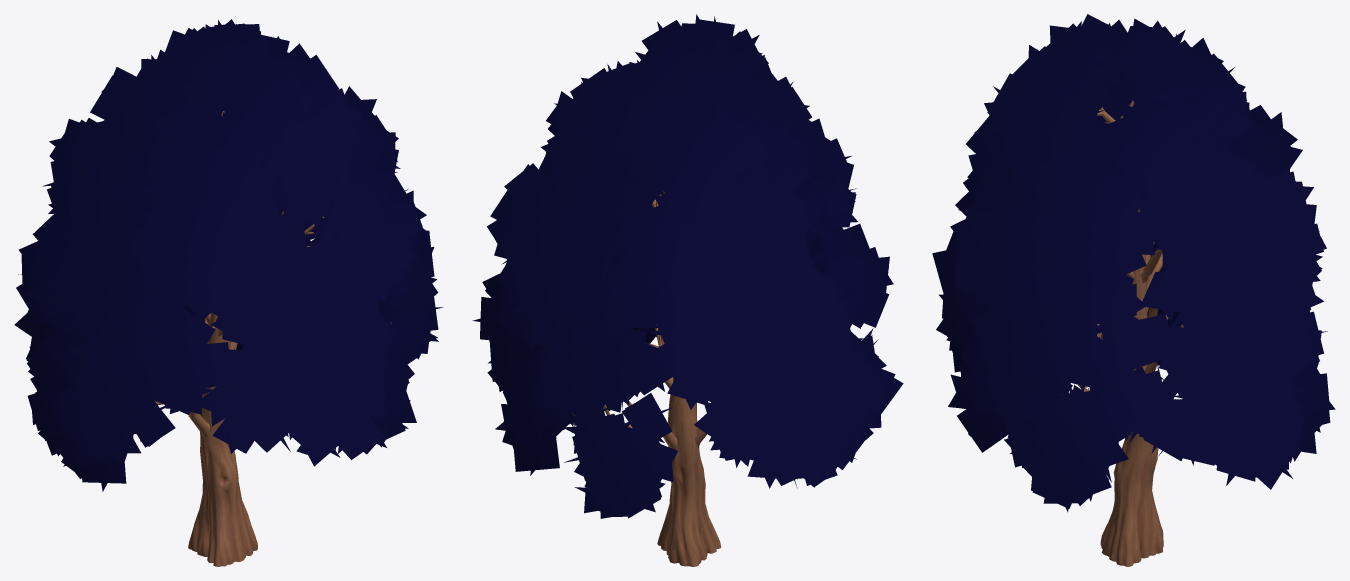
The model's file is SM_OakTree_02.fbx.
3 renders of one model, left to right at view 1: azimuth 30°, elevation 25°; view 2: azimuth 150°, elevation 25°; view 3: azimuth 270°, elevation 25°, orthographic. The views are drawn at different scales.
Parts seen in each view (by area): view 1: SM_OakTree_02_LOD0; view 2: SM_OakTree_02_LOD0; view 3: SM_OakTree_02_LOD0.
Boxes of the visible parts, <box> form: SM_OakTree_02_LOD0: <box>14,19,443,566</box>; SM_OakTree_02_LOD0: <box>472,14,903,566</box>; SM_OakTree_02_LOD0: <box>932,14,1335,566</box>.
Size of what is drawn, in the model's own units: 1230 by 1633 by 1125.
